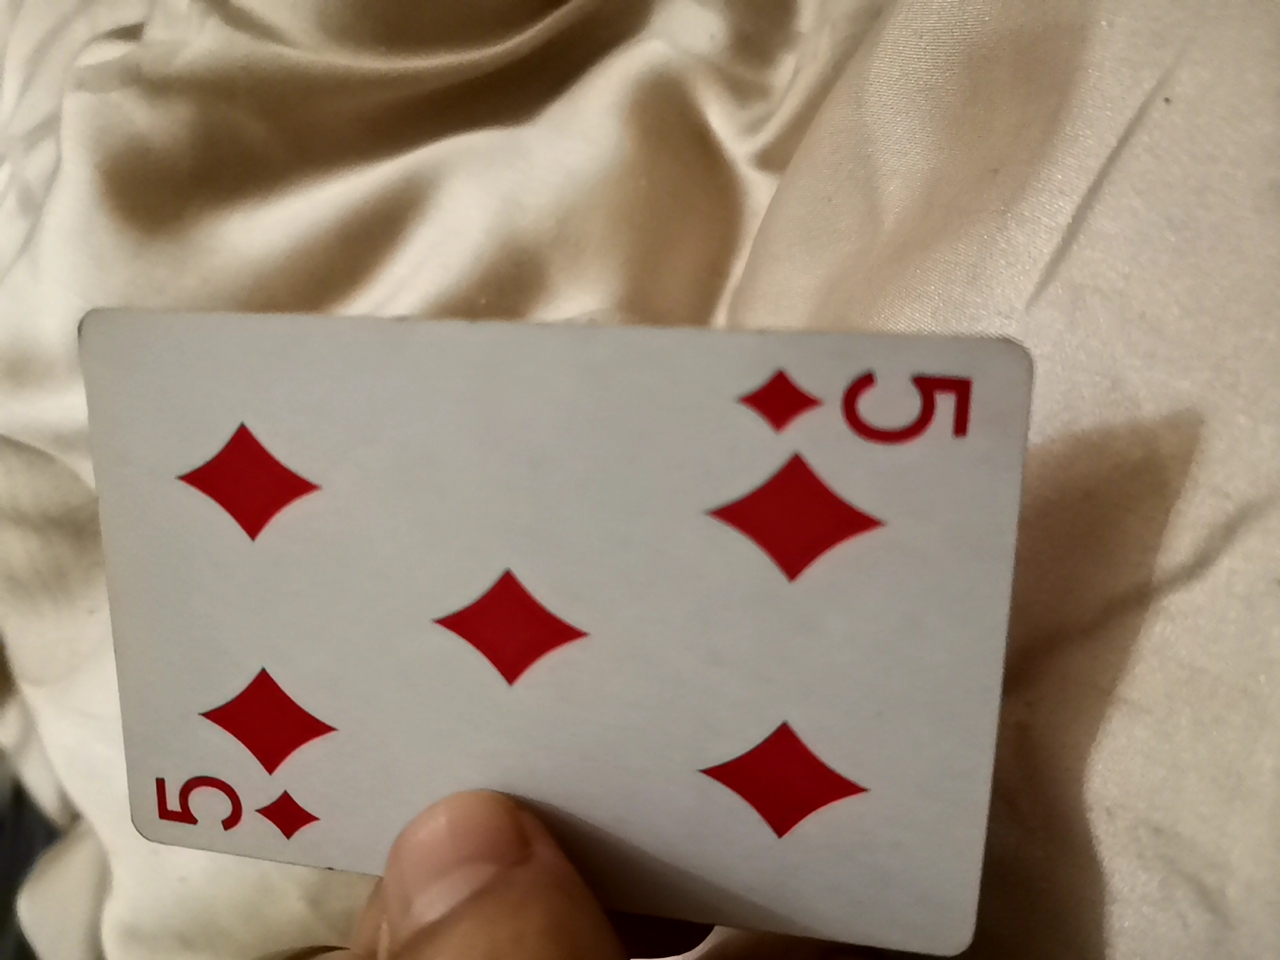fk 5: (71, 298, 1048, 947)
